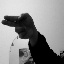h: (1, 10, 36, 40)
